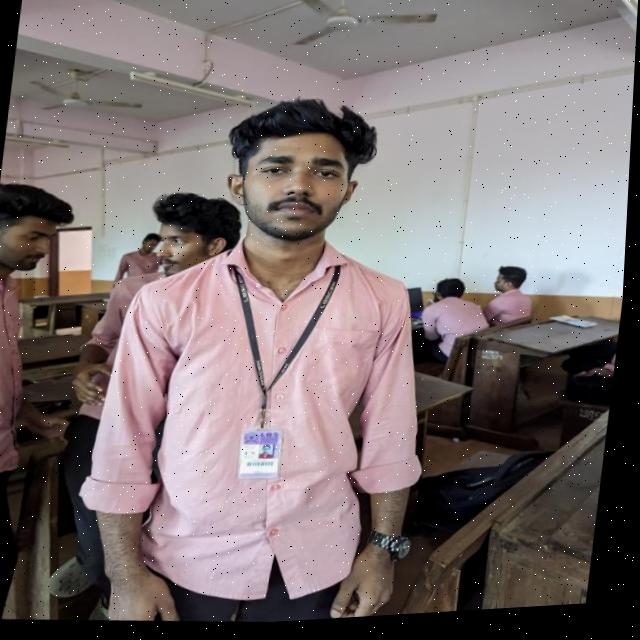id_card: (209, 257, 341, 493)
